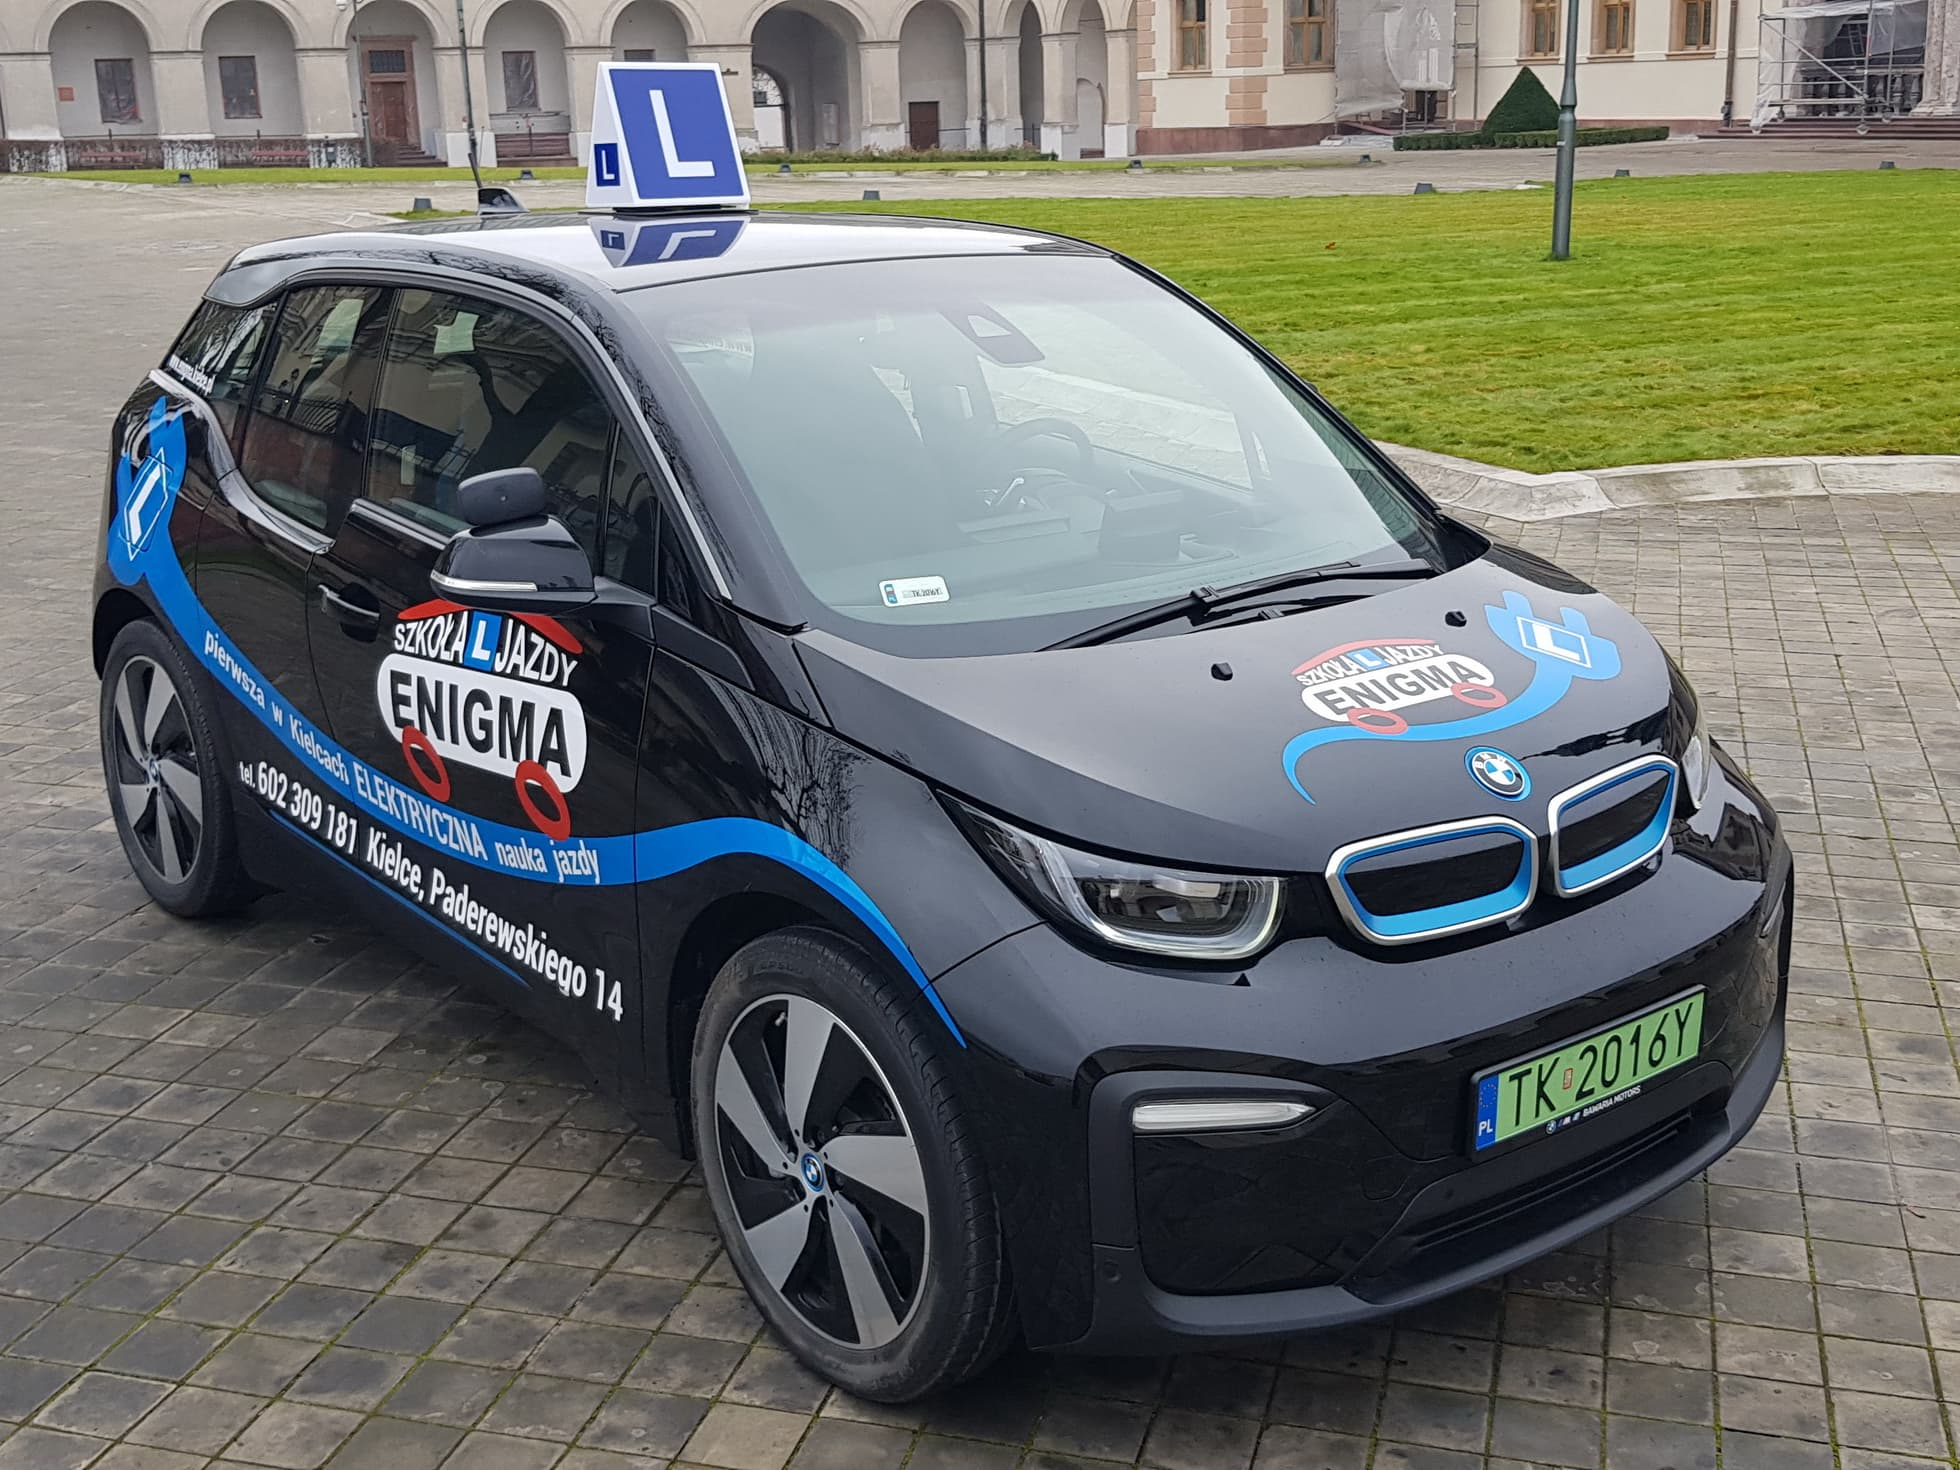tablica: (1466, 977, 1708, 1150)
